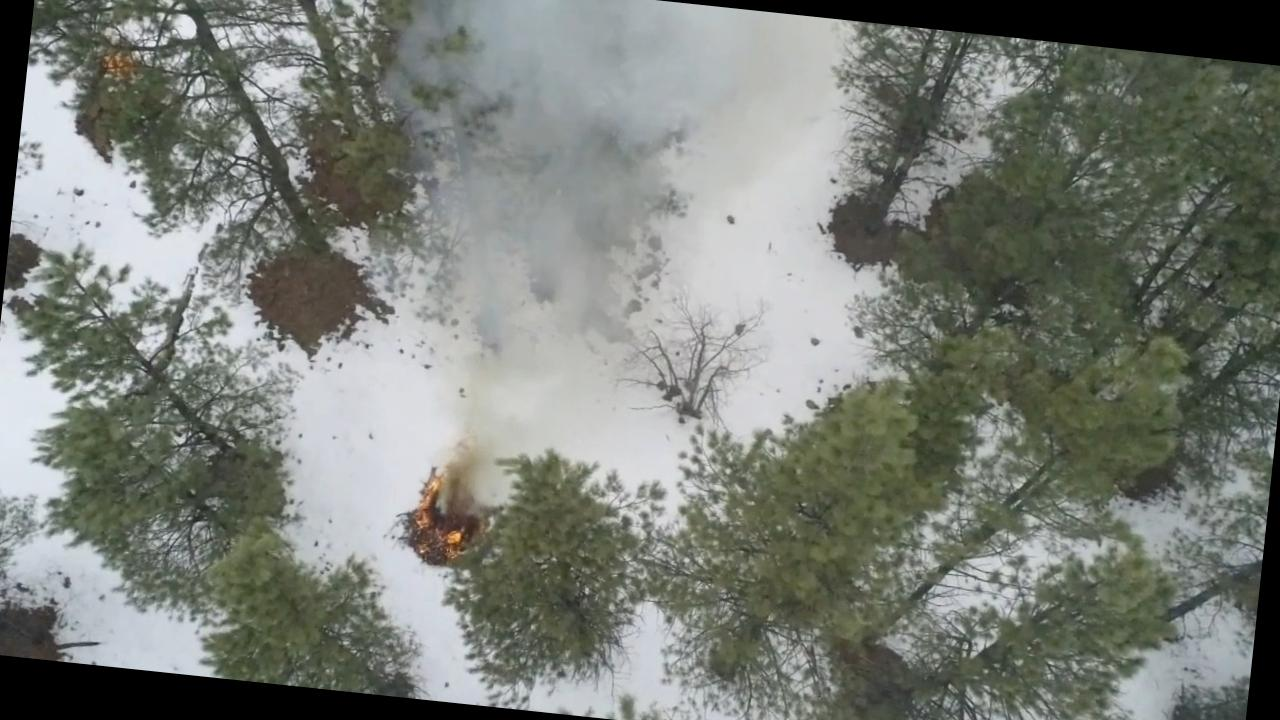fire: (408, 470, 478, 562)
smoke: (370, 0, 724, 261)
